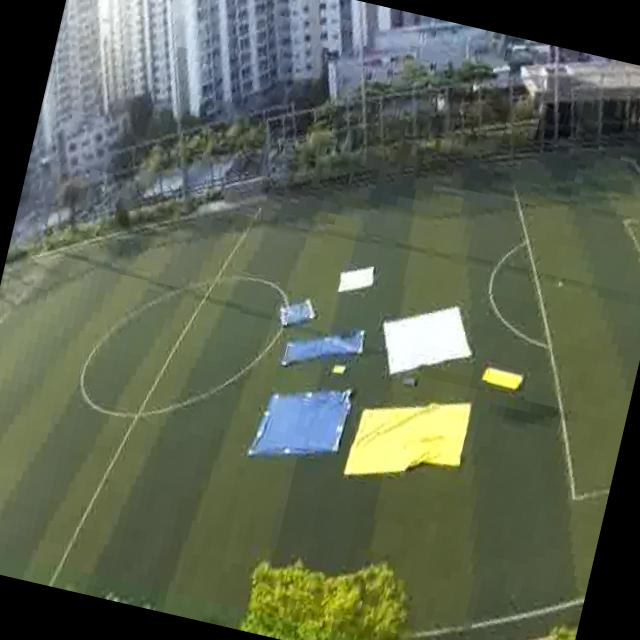danger: (246, 368, 354, 476), (309, 318, 369, 367), (274, 289, 318, 333)
safety: (370, 286, 488, 394), (330, 257, 384, 304)
warning: (340, 373, 476, 499), (473, 359, 525, 402)
